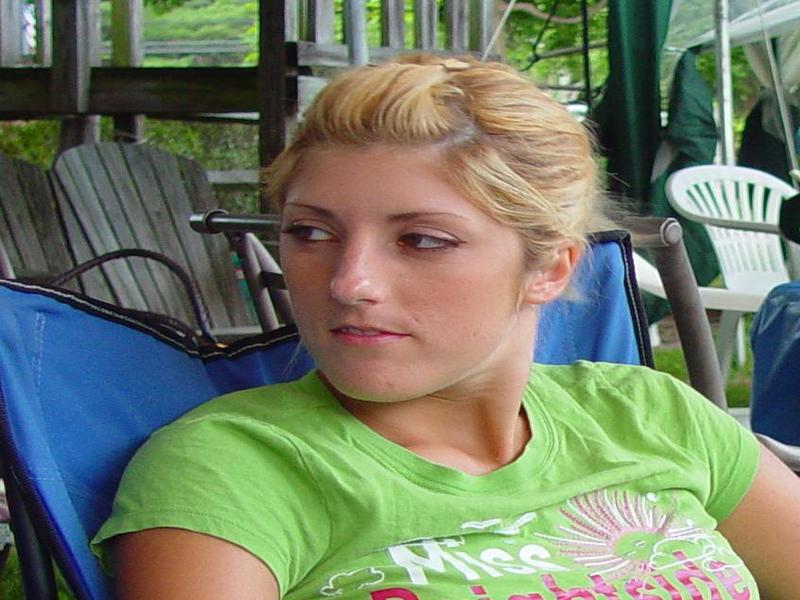person: (102, 47, 795, 599)
